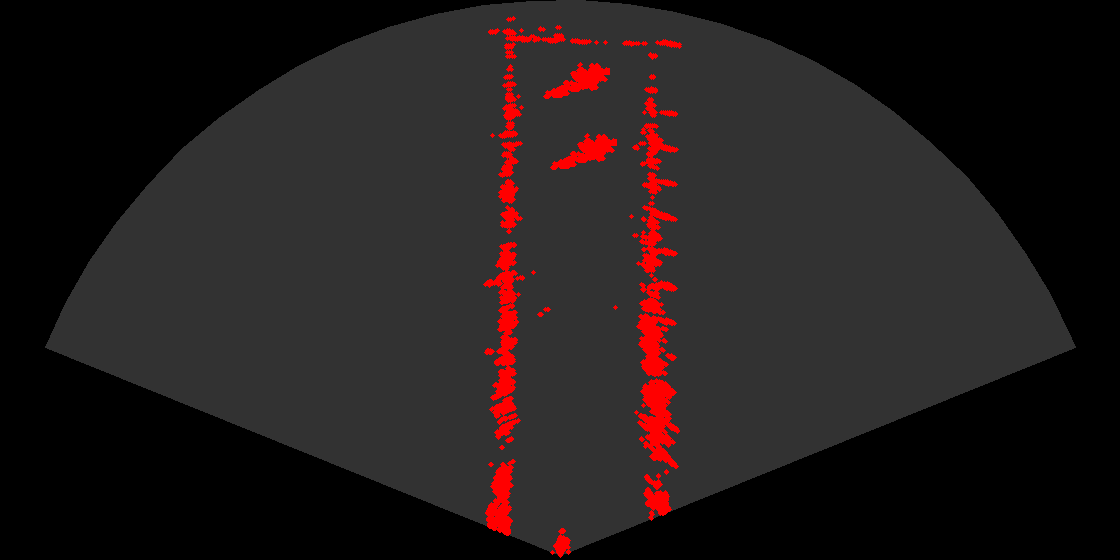frogman: (549, 127, 617, 174), (542, 56, 610, 103)
